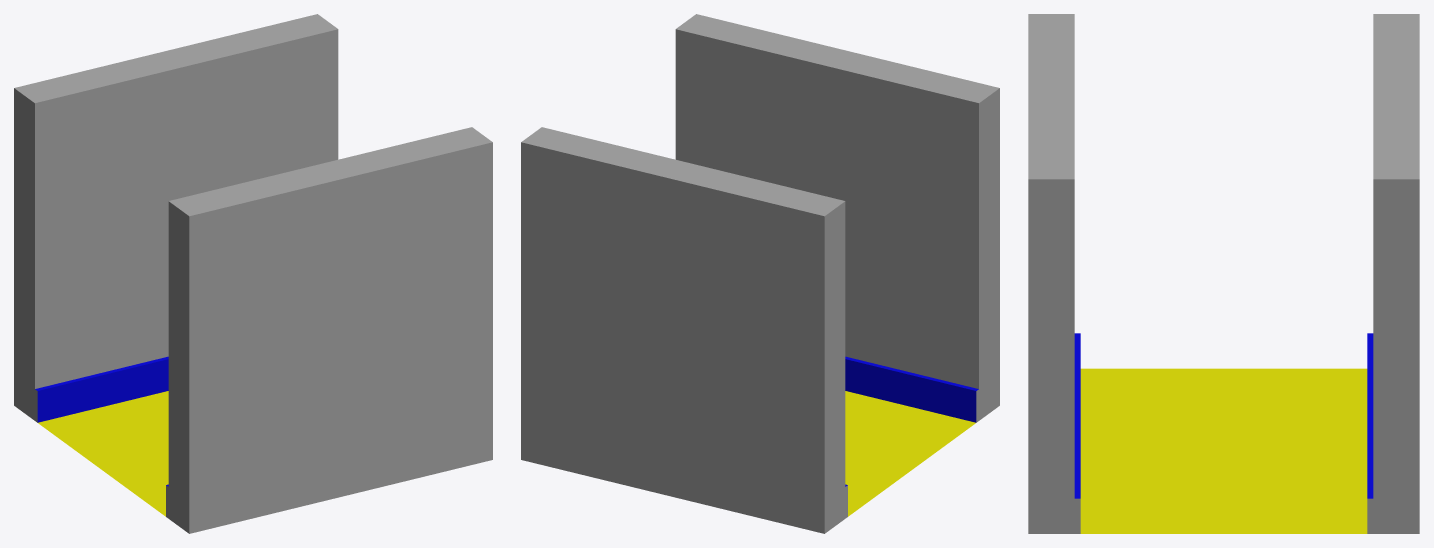
Rendered from corridor.fbx.
3 renders of one model, left to right at view 1: azimuth 30°, elevation 25°; view 2: azimuth 150°, elevation 25°; view 3: azimuth 270°, elevation 25°, orthographic. The views are drawn at different scales.
Visible parts, largest first — view 1: corridor_MESH; view 2: corridor_MESH; view 3: corridor_MESH.
Boxes of the visible parts, <box> form: corridor_MESH: <box>14,14,492,533</box>; corridor_MESH: <box>521,14,999,533</box>; corridor_MESH: <box>1028,14,1419,533</box>.
Bounding box in the file's own units: 200 × 200 × 200.
